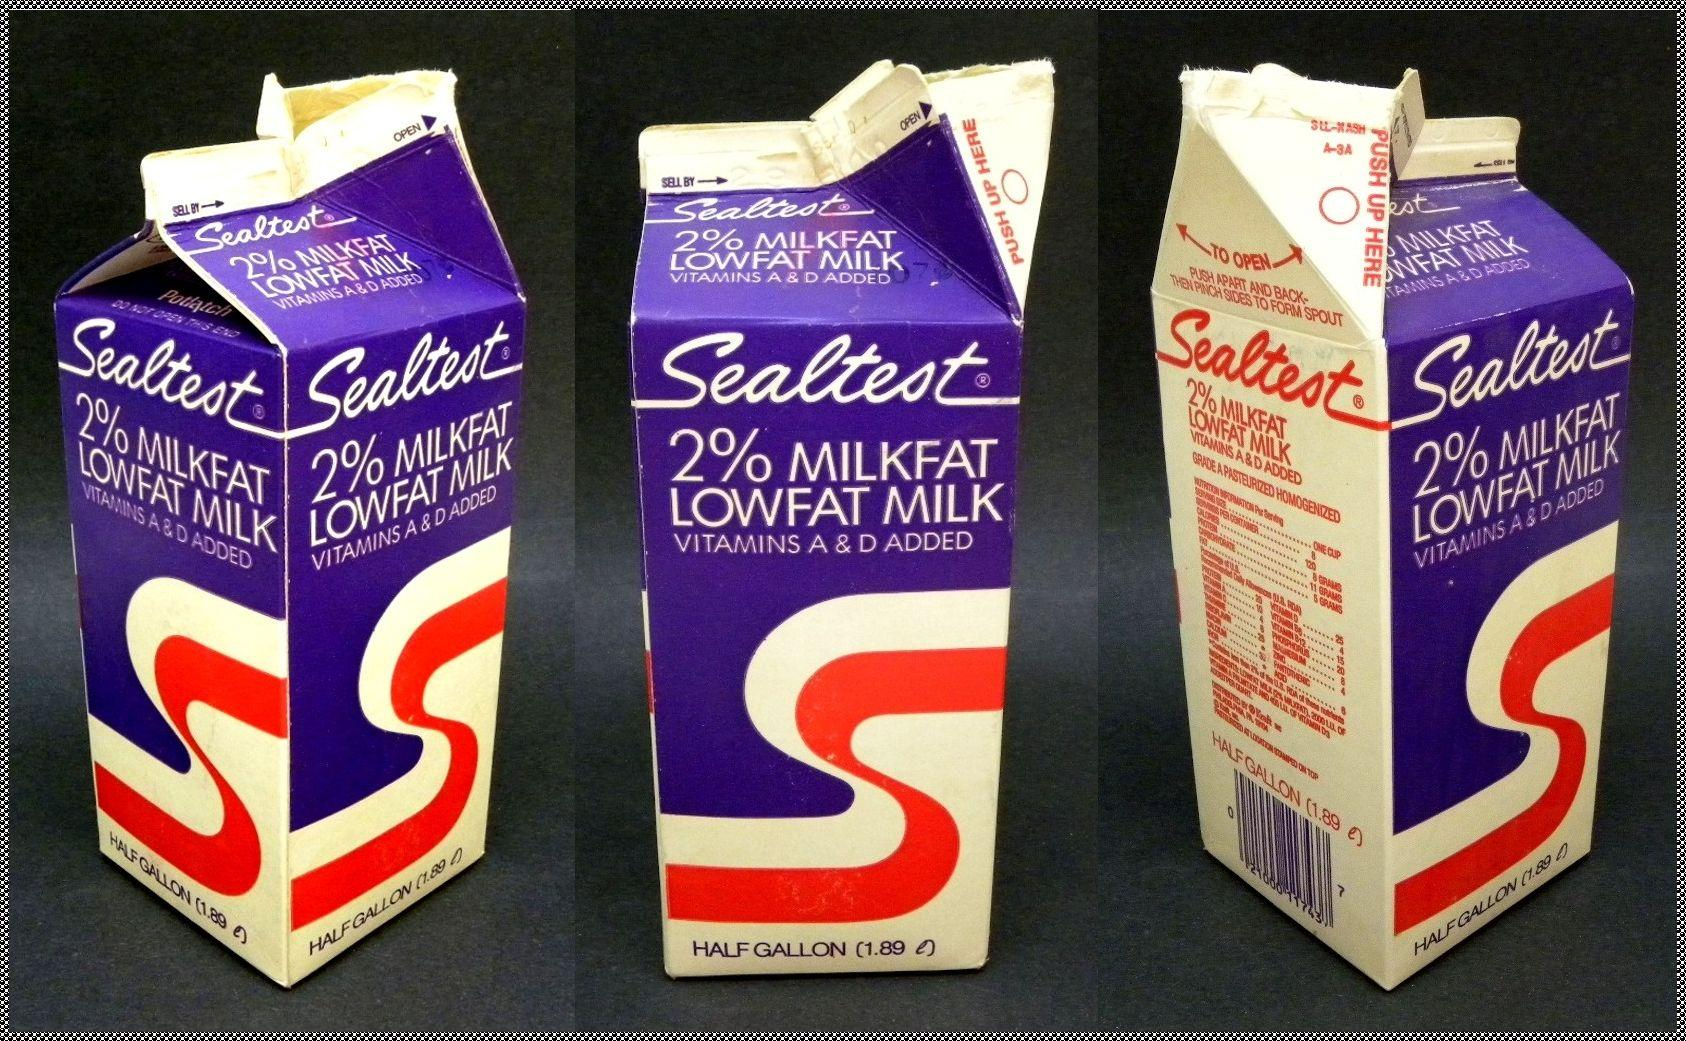cardboard: (1153, 65, 1632, 986), (55, 71, 524, 984), (631, 61, 1053, 976)
